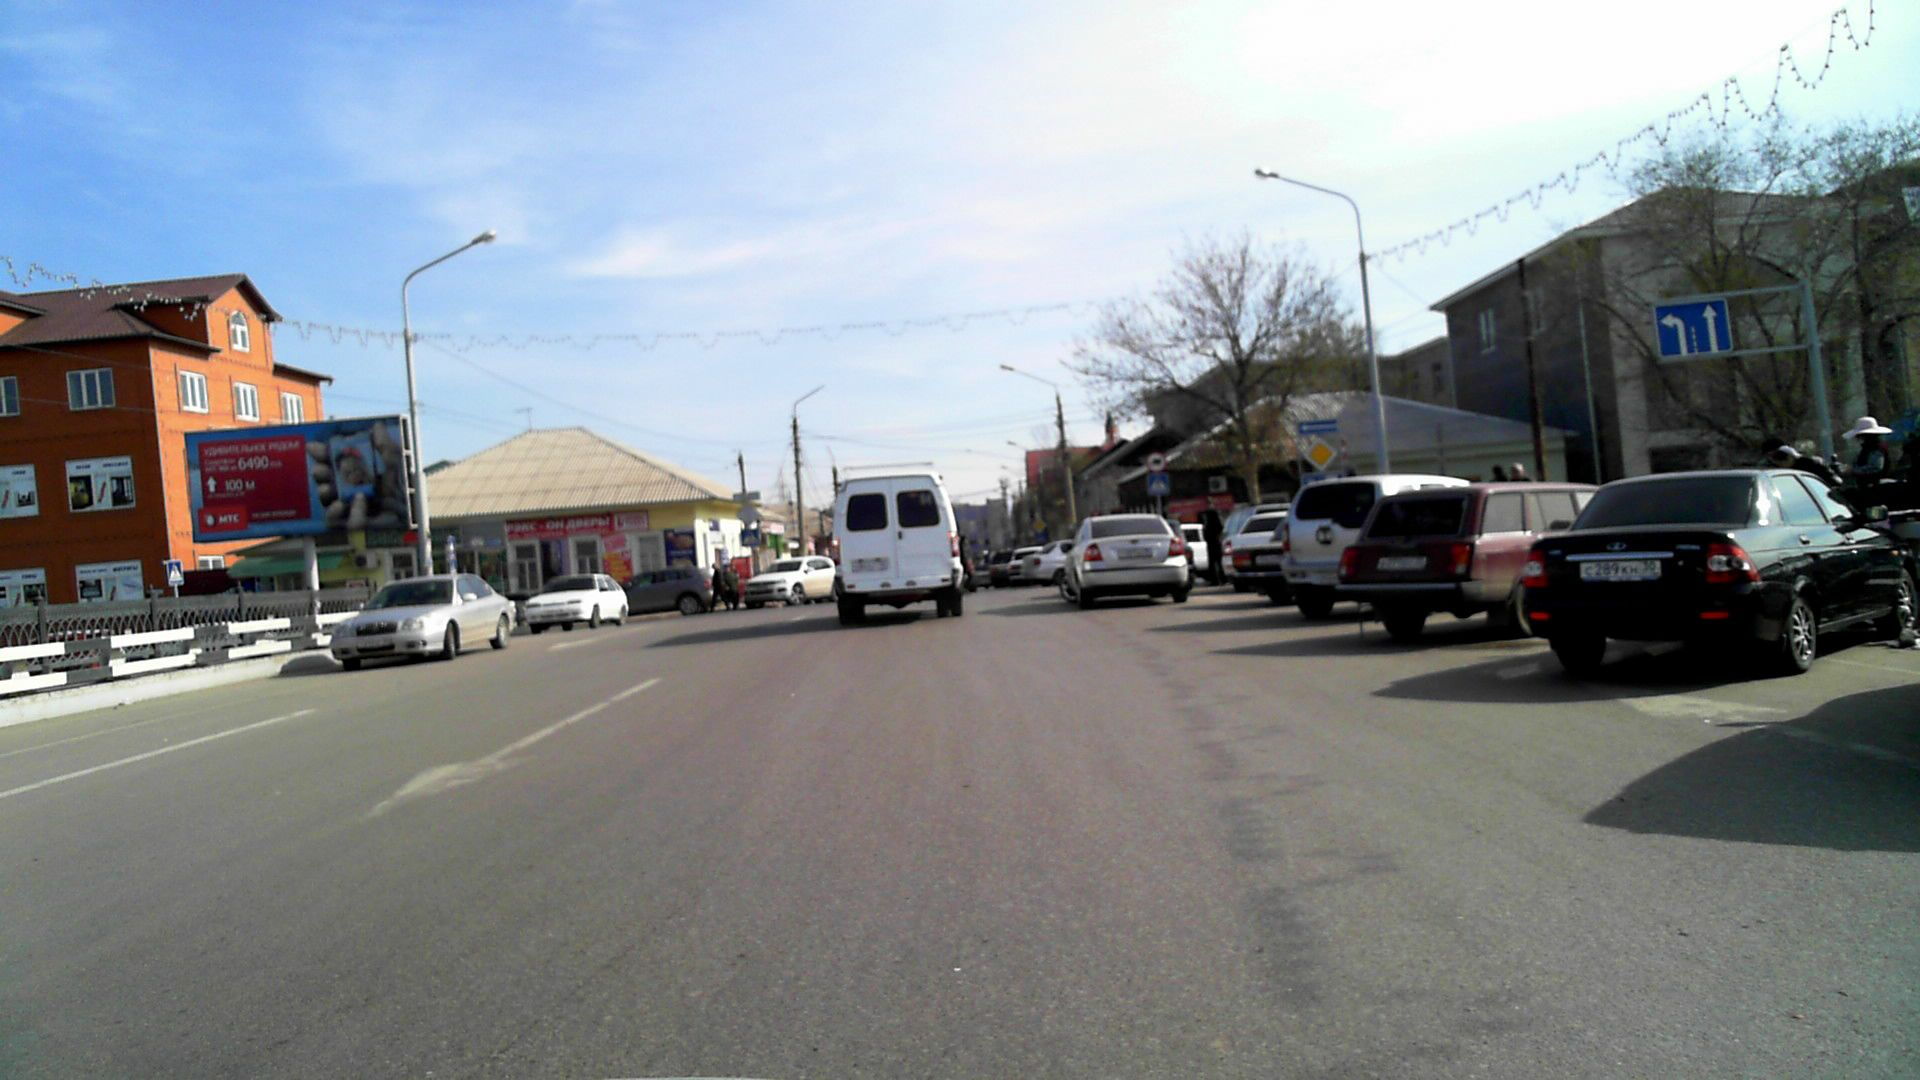One-Way Traffic: (1298, 419, 1337, 434)
